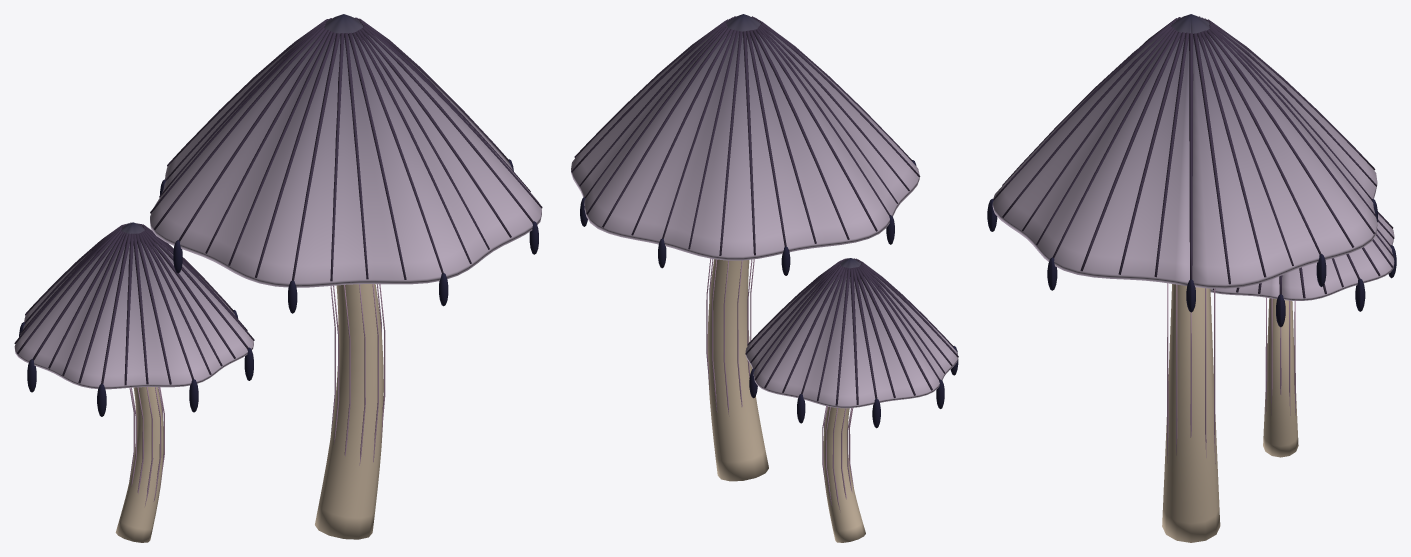
Rendered from enchanted-inkcap.glb.
3 views of the same model, side by side, from view 1: azimuth 30°, elevation 25°; view 2: azimuth 150°, elevation 25°; view 3: azimuth 270°, elevation 25° (orthographic). The views are drawn at different scales.
Visible parts, largest first — view 1: enchanted-inkcap-sculpted-details; view 2: enchanted-inkcap-sculpted-details; view 3: enchanted-inkcap-sculpted-details.
Boxes of the visible parts, bbox=[...] form: enchanted-inkcap-sculpted-details: bbox=[14, 14, 542, 542]; enchanted-inkcap-sculpted-details: bbox=[571, 14, 958, 542]; enchanted-inkcap-sculpted-details: bbox=[987, 14, 1396, 542].
Size of the model in its own units: 0.8894 by 1 by 0.7175.
